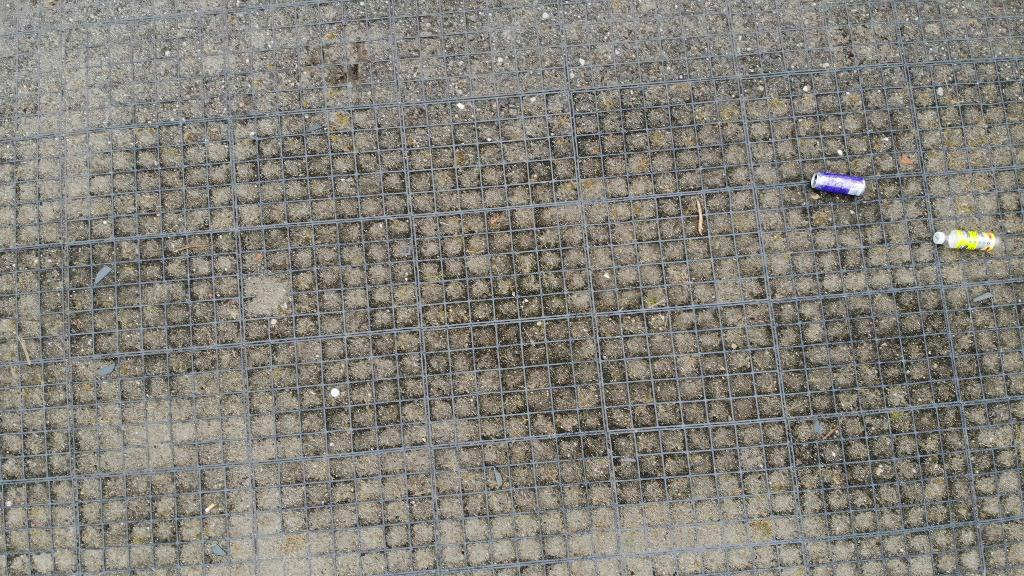garbage: (933, 225, 1002, 256), (809, 172, 867, 199)
